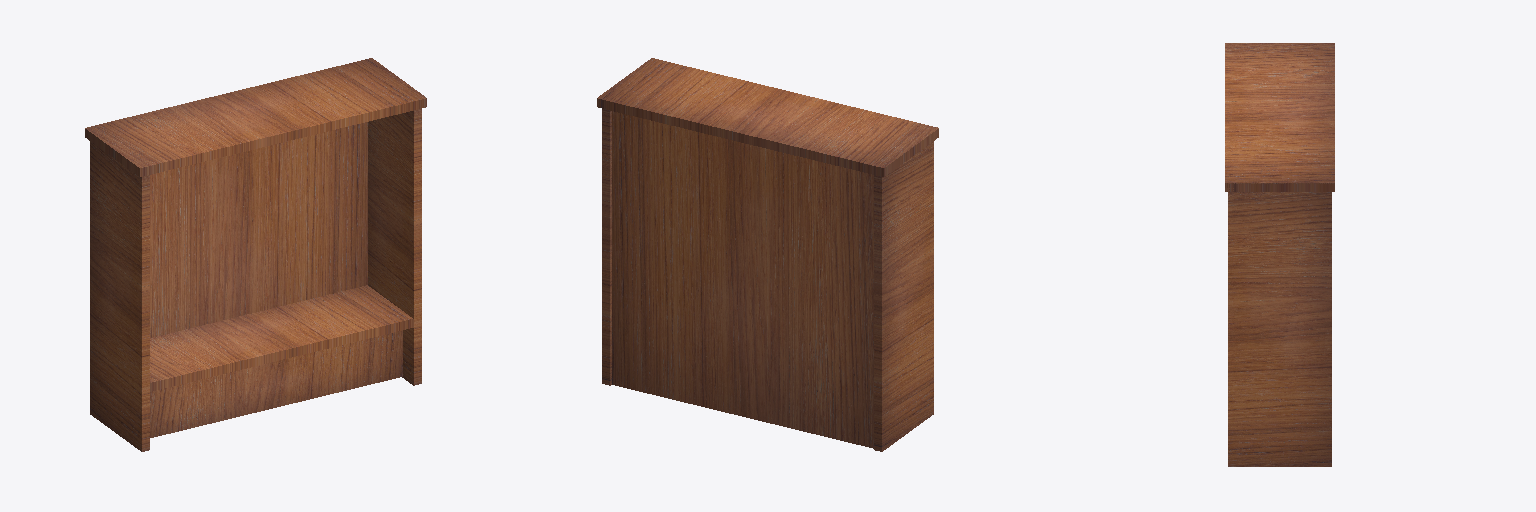
3 renders of one model, left to right at view 1: azimuth 30°, elevation 25°; view 2: azimuth 150°, elevation 25°; view 3: azimuth 270°, elevation 25°, orthographic.
Parts seen in each view (by area): view 1: Mesh; view 2: Mesh; view 3: Mesh.
Part boxes in pixels (left/top/right/bottom): Mesh: left=85, top=58, right=426, bottom=451; Mesh: left=597, top=58, right=938, bottom=451; Mesh: left=1225, top=43, right=1334, bottom=466.
Bounding box in the file's own units: 4.23 × 4.02 × 1.41.
6 materials, 1 textured.